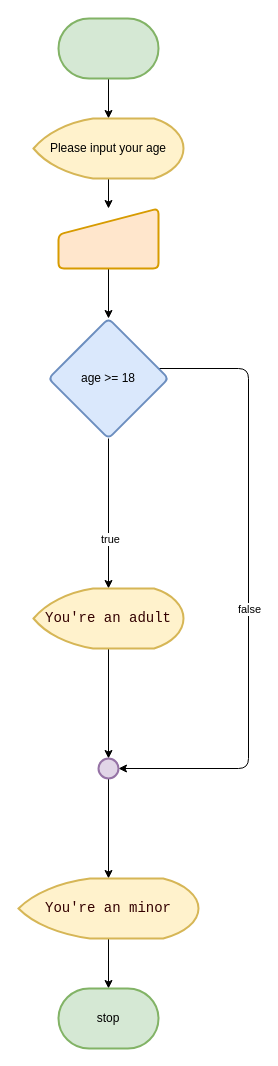
The diagram is 278 pixels wide and 1066 high, and some of its shapes have lost their labels. Here are the shapes that lost their labels. From the top down, the centre of each, then its label:
point (108, 48): start
point (108, 238): age
